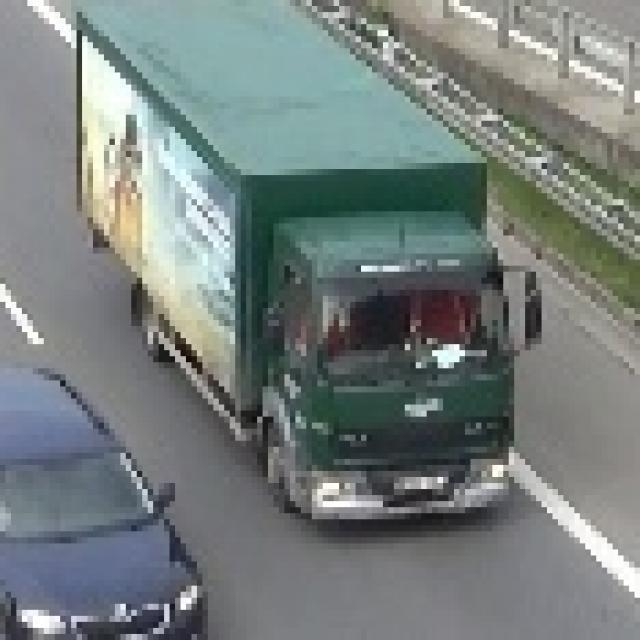truck: (71, 0, 536, 519)
